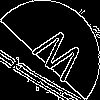W: (25, 25, 87, 90)
